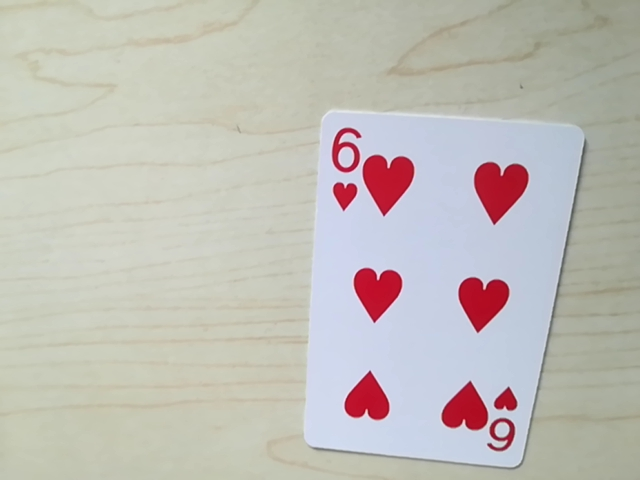hx 6: (323, 119, 364, 213), (485, 381, 525, 463)
